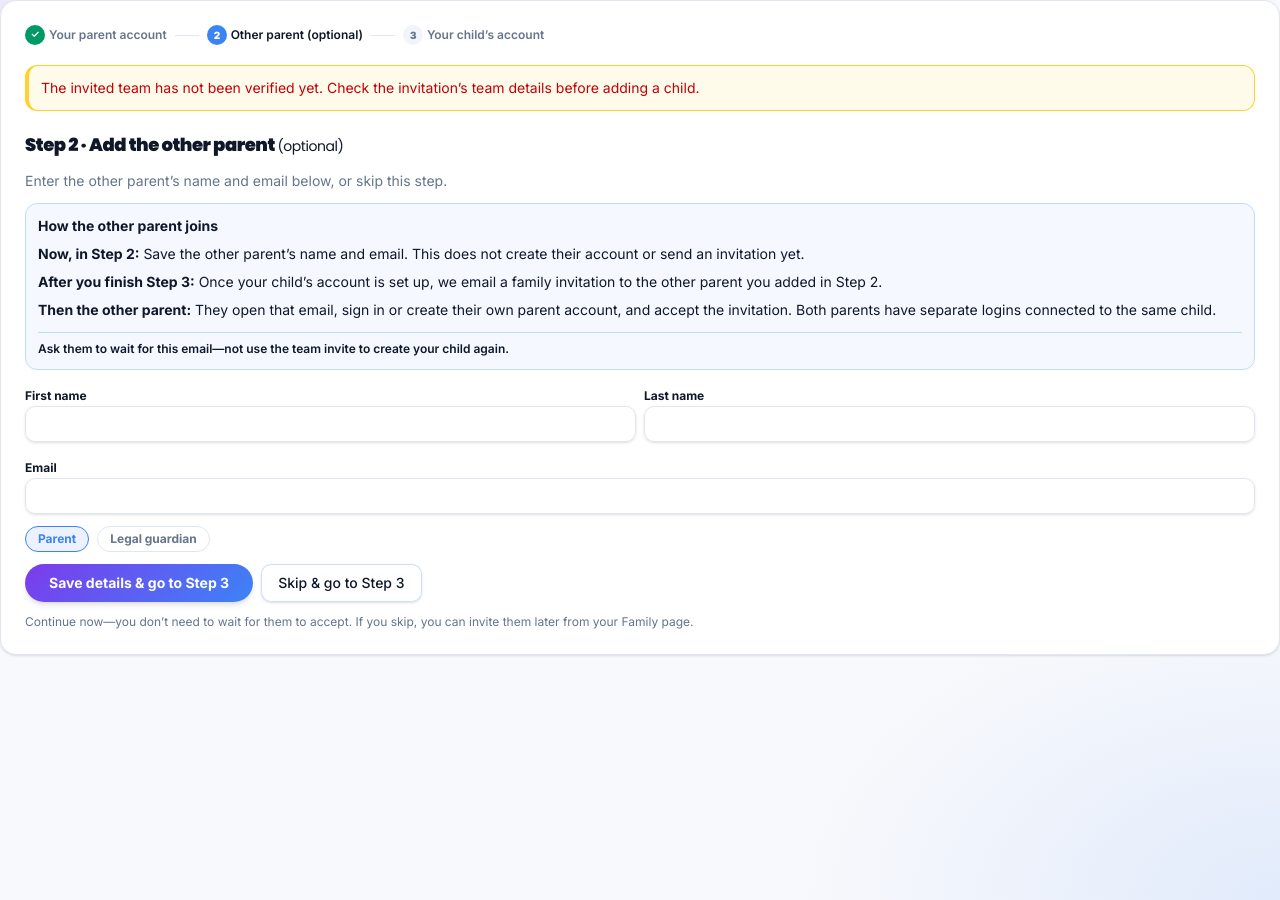
Test: FamilySetup › does not submit to an unnamed team
This screenshot has width=1280, height=900.
Expected: the element with test id "team-setup-context" shows "has not been verified yet", [41,79,700,96]
Click the button with test id "btn-coparent-skip" at (341, 583), box [261,564,422,602]
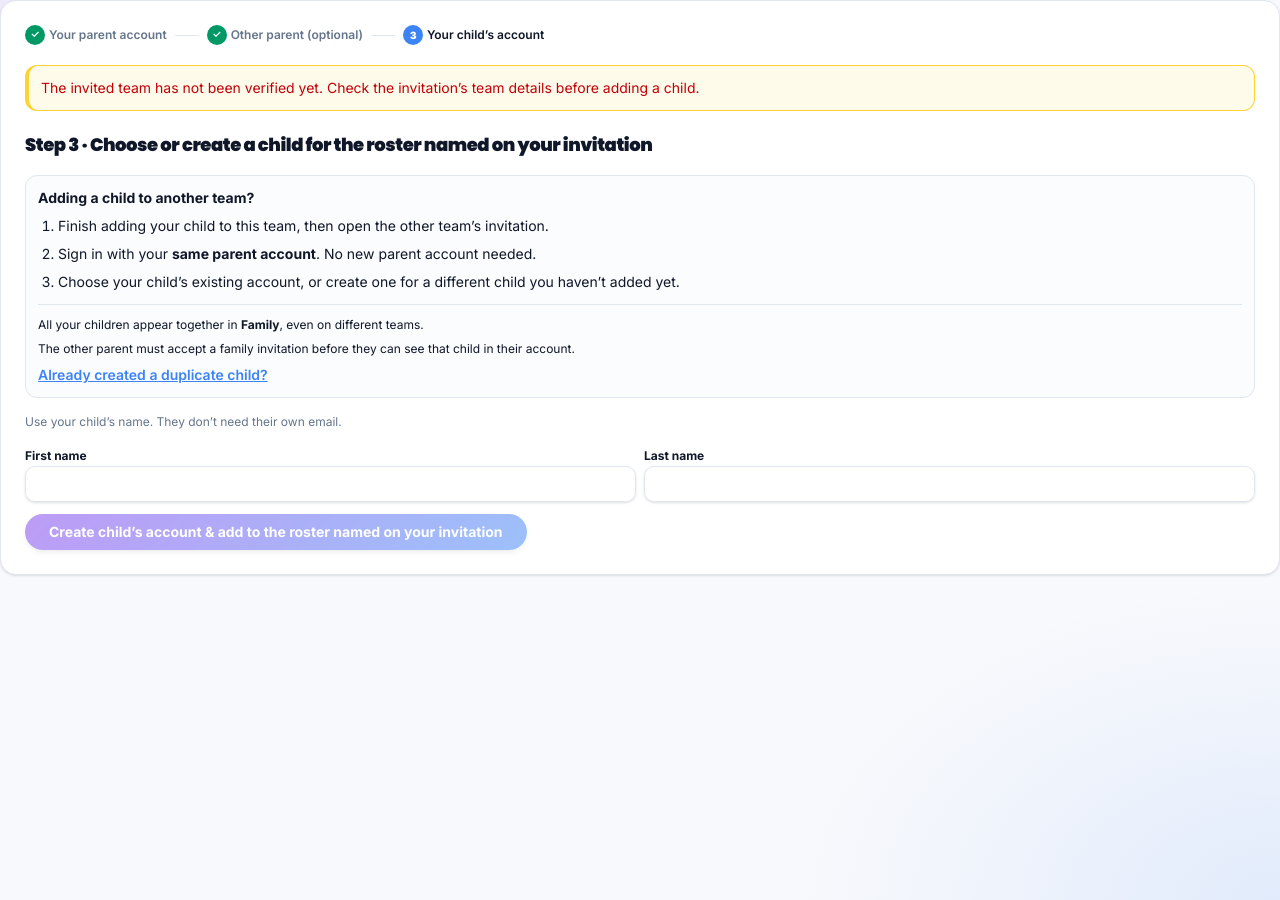
Now the button with test id "btn-add-child" is disabled, box [25,514,526,550]
